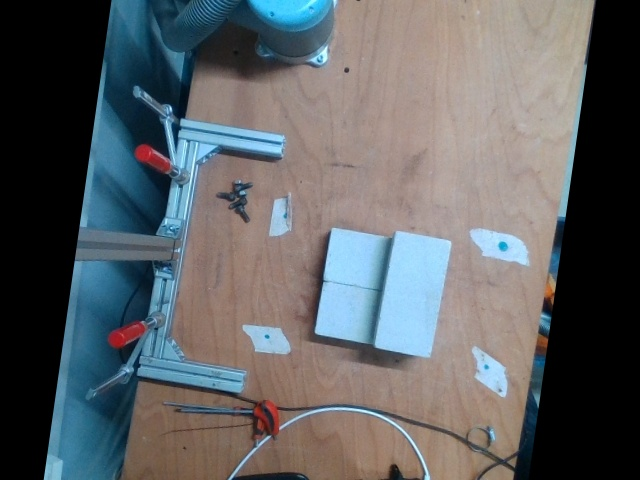brick: (374, 231, 451, 359)
